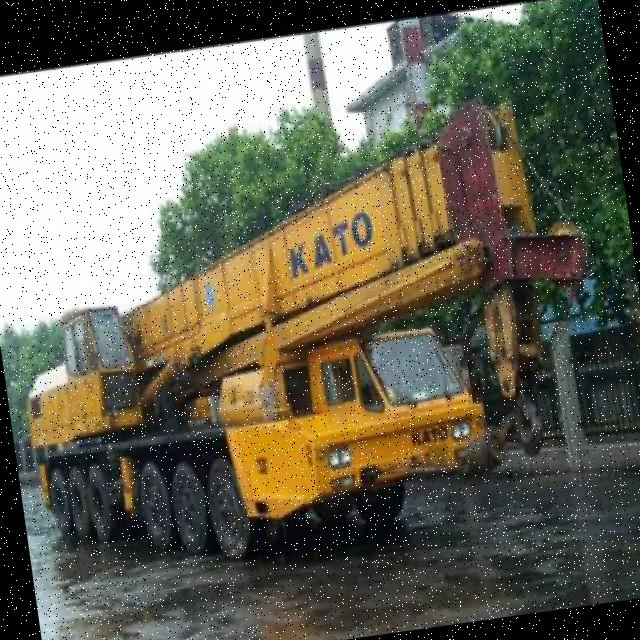Mobile Crane: (0, 93, 622, 583)
